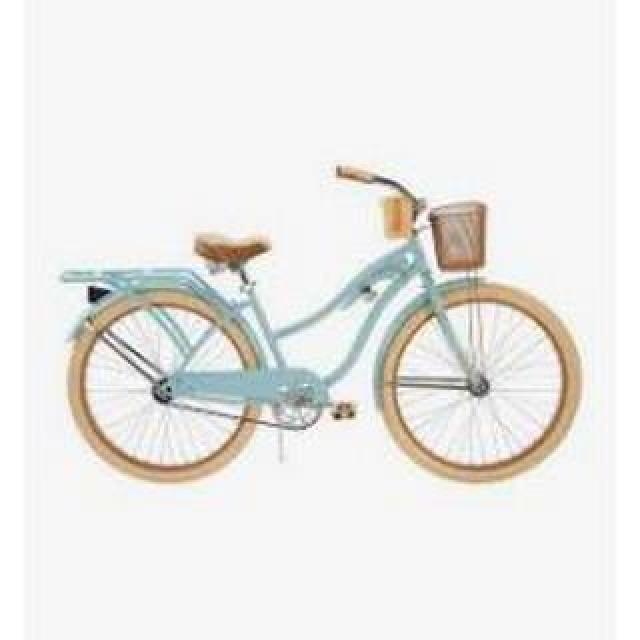Person: (58, 154, 584, 488)
